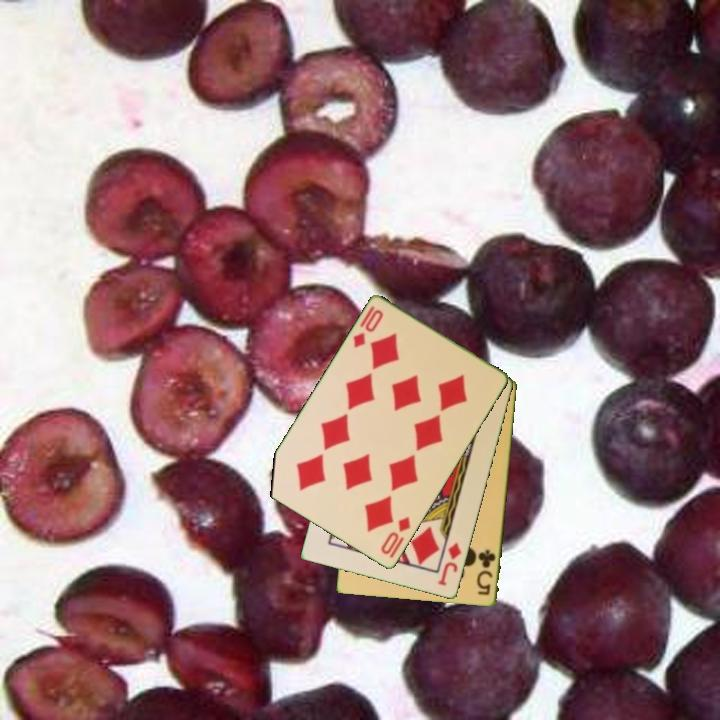10d: (377, 513, 414, 561), (349, 306, 386, 351)
5c: (473, 547, 499, 599)
Jd: (435, 540, 464, 589)
